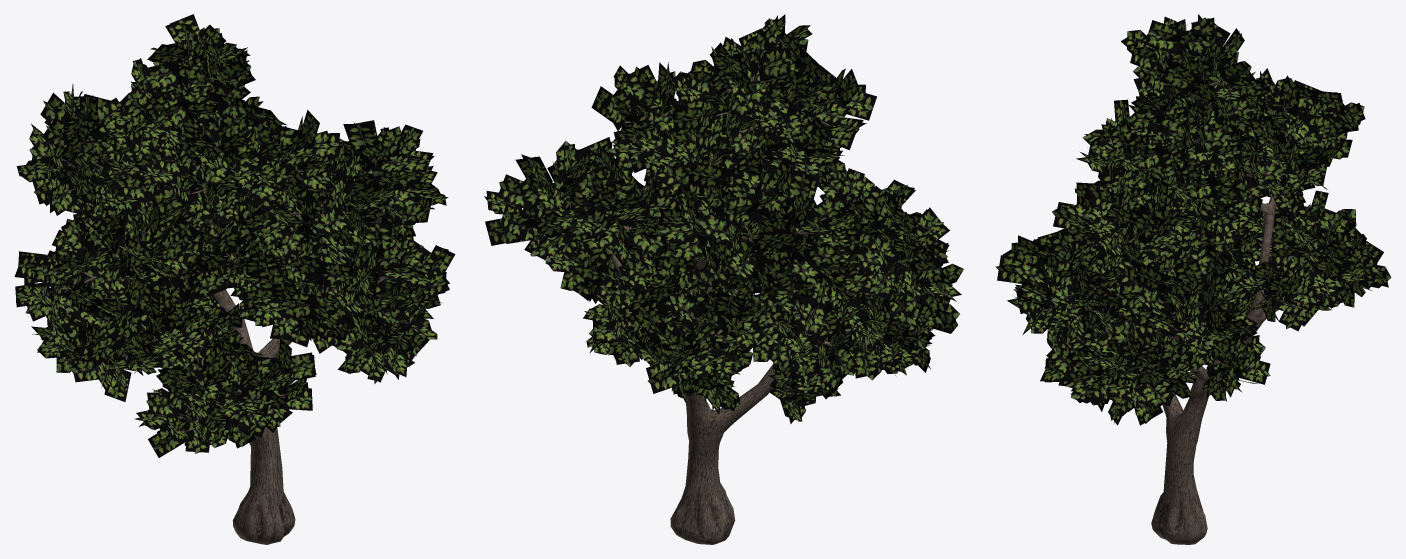
The model's file is tree1.glb.
The picture shows the model from 3 angles, left to right: view 1: azimuth 30°, elevation 25°; view 2: azimuth 150°, elevation 25°; view 3: azimuth 270°, elevation 25°; orthographic projection. The views are drawn at different scales.
Visible parts, largest first — view 1: crown merged_normal leaves_0, trunk_low_trunk_0, br_low_trunk_0; view 2: crown merged_normal leaves_0, trunk_low_trunk_0; view 3: crown merged_normal leaves_0, trunk_low_trunk_0.
Boxes of the visible parts, x1,y1,x2,y2 form: crown merged_normal leaves_0: [14, 14, 455, 457]; trunk_low_trunk_0: [213, 206, 382, 544]; br_low_trunk_0: [49, 58, 411, 431]; crown merged_normal leaves_0: [484, 14, 963, 423]; trunk_low_trunk_0: [610, 161, 855, 544]; crown merged_normal leaves_0: [995, 14, 1391, 425]; trunk_low_trunk_0: [1105, 97, 1278, 544].
Size of the model in its own units: 0.8938 by 0.9997 by 0.7303.
2 materials, 2 textured.
